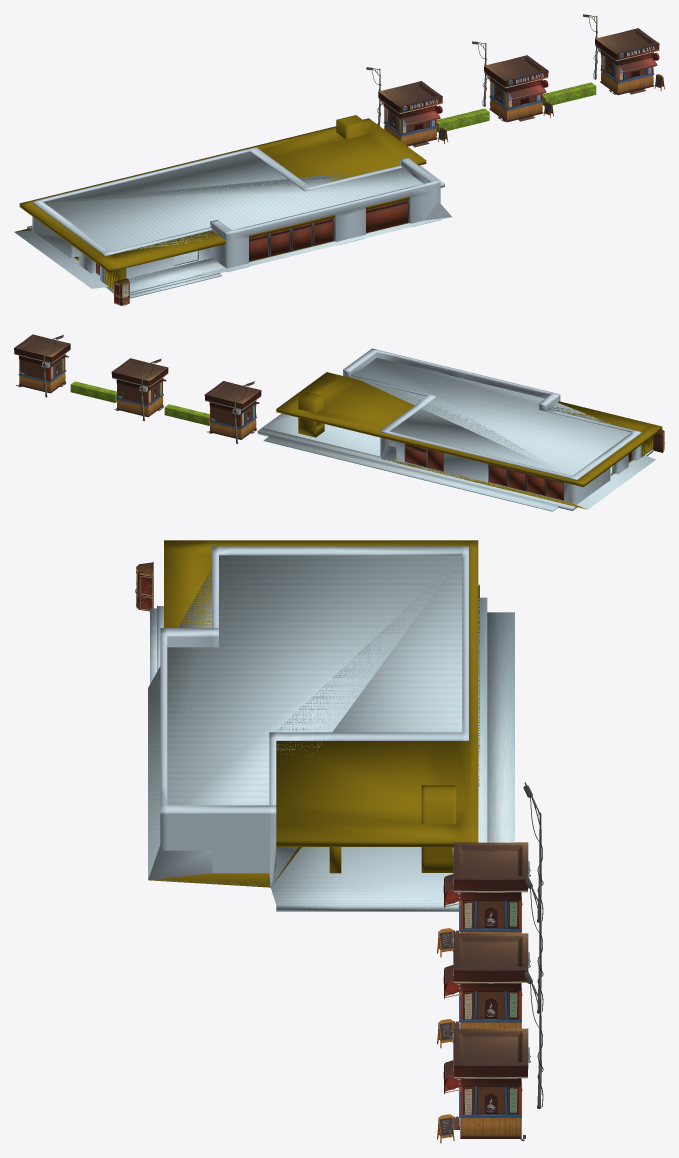
The model's file is recepcion.obj.
The picture shows the model from 3 angles, top to bottom: view 1: azimuth 30°, elevation 25°; view 2: azimuth 150°, elevation 25°; view 3: azimuth 270°, elevation 25°; orthographic projection. The views are drawn at different scales.
Parts seen in each view (by area): view 1: cottage, roma_kava001, roma_kava002, roma_kava, window_glass_003, window_glass_004, arbusto047, arbusto046, window_frame_03; view 2: cottage, roma_kava001, roma_kava002, roma_kava, window_glass_005, window_glass_006, arbusto047, arbusto046, window_frame_05; view 3: cottage, roma_kava002, roma_kava001, roma_kava.
Part boxes in pixels (left/top/right/bottom): cottage: left=14, top=115, right=451, bottom=298; roma_kava001: left=484, top=55, right=553, bottom=122; roma_kava002: left=595, top=28, right=664, bottom=95; roma_kava: left=378, top=81, right=448, bottom=147; window_glass_003: left=249, top=218, right=333, bottom=261; window_glass_004: left=366, top=199, right=407, bottom=232; arbusto047: left=542, top=82, right=596, bottom=106; arbusto046: left=436, top=108, right=489, bottom=132; window_frame_03: left=249, top=217, right=334, bottom=261; cottage: left=257, top=348, right=662, bottom=511; roma_kava001: left=111, top=358, right=168, bottom=417; roma_kava002: left=14, top=334, right=70, bottom=393; roma_kava: left=204, top=381, right=261, bottom=439; window_glass_005: left=489, top=464, right=563, bottom=499; window_glass_006: left=406, top=444, right=443, bottom=470; arbusto047: left=70, top=381, right=116, bottom=402; arbusto046: left=164, top=404, right=210, bottom=425; window_frame_05: left=488, top=464, right=563, bottom=500; cottage: left=148, top=540, right=514, bottom=911; roma_kava002: left=437, top=1028, right=530, bottom=1143; roma_kava001: left=437, top=933, right=530, bottom=1048; roma_kava: left=437, top=842, right=530, bottom=957.
Size of the model in its own units: 37.87 by 4.04 by 11.89.
Materials: 6 (5 with a texture image).
